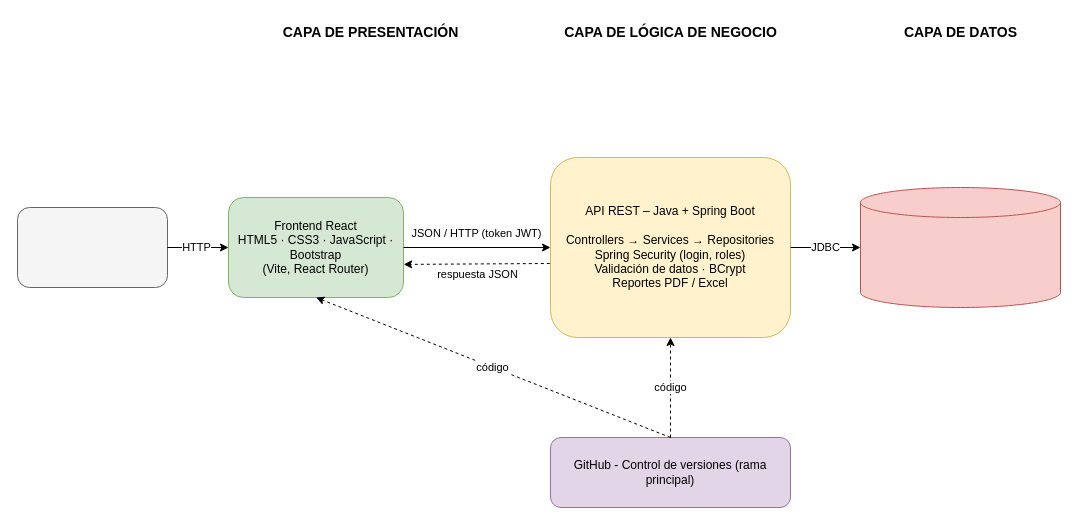
The diagram is 1078 pixels wide and 525 high, and some of its shapes have lost their labels. The shapes that lost their labels are listed below. From the top down, each one's box as (x1, y1, x2, y2) in pixels, then its label:
(16, 206, 168, 288): Usuario Dueño (administrador) / Vendedor Navegador web
(860, 186, 1060, 308): SQL Server Express Base FerreteriaLosOlivos (administrada con SSMS)
